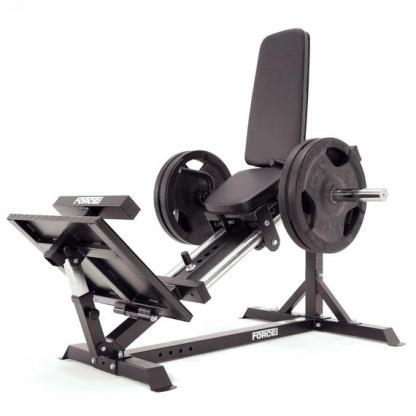leg press: (7, 4, 414, 405)
